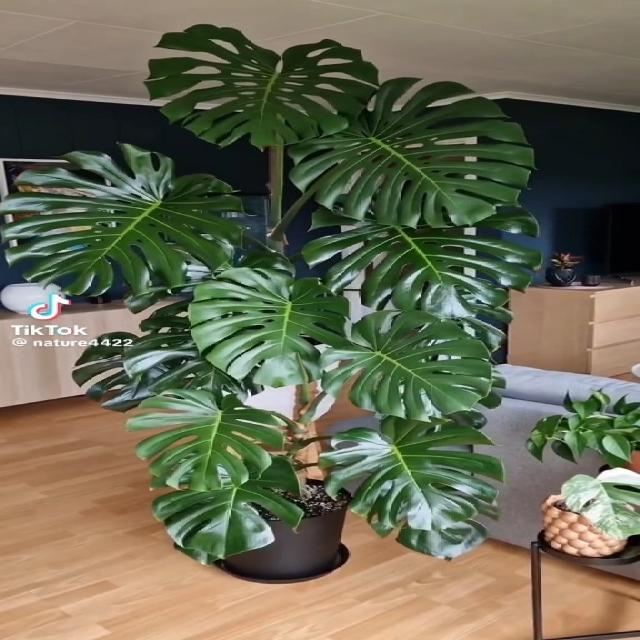roslina_zdrowa: (0, 23, 542, 566)
